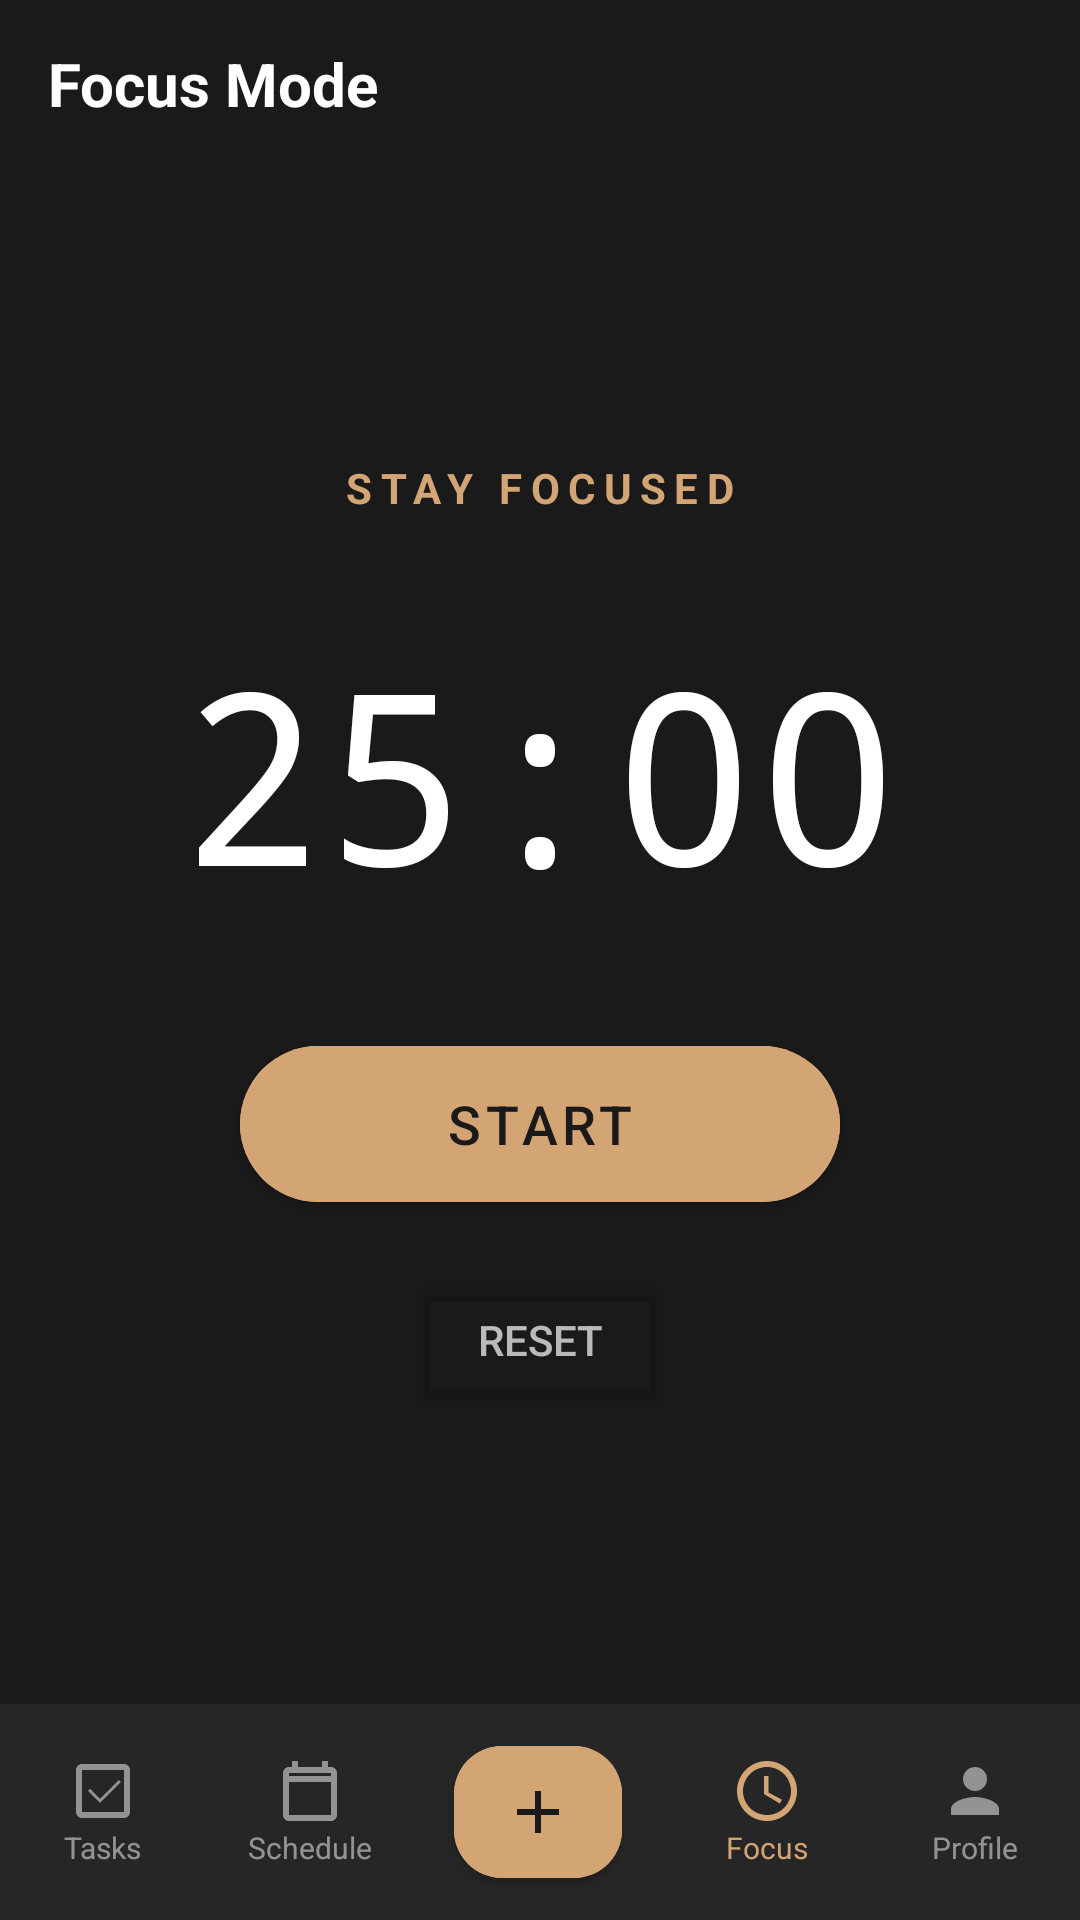

Locate icon controls on the screen. Image size 1080*1920, boxes as (x1, y1, x2, y2).
add task: (454, 1746, 622, 1878)
